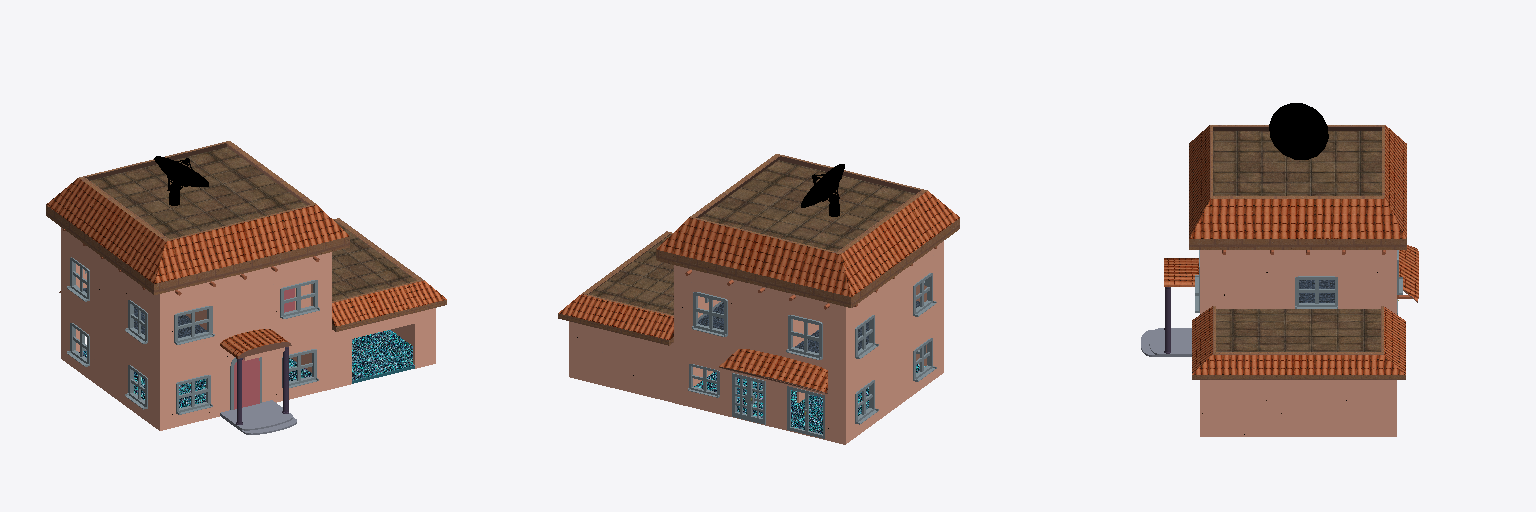
The picture shows the model from 3 angles: view 1: azimuth 30°, elevation 25°; view 2: azimuth 150°, elevation 25°; view 3: azimuth 270°, elevation 25°; orthographic projection.
Visible parts, largest first — view 1: polySurface145 polySurface304, polySurface480, polySurface145 polySurface361, polySurface145 polySurface300, polySurface145 polySurface416, polySurface145 polySurface413, polySurface145 polySurface358, polySurface145 polySurface313, polySurface145 polySurface343, polySurface145 polySurface377, polySurface145 polySurface305, polySurface145 polySurface344 (+12 smaller); view 2: polySurface491, polySurface480, polySurface145 polySurface361, polySurface145 polySurface400, polySurface145 polySurface416, polySurface353 polySurface145, polySurface145 polySurface383, polySurface145 polySurface358, polySurface145 polySurface433, polySurface145 polySurface414, polySurface402, polySurface412 (+11 smaller); view 3: polySurface145 polySurface370, polySurface145 polySurface345, polySurface452, polySurface145 polySurface361, polySurface145 polySurface358, polySurface145 polySurface340, polySurface145 polySurface372, polySurface145 polySurface400, polySurface145 polySurface300, polySurface145 polySurface383, polySurface145 polySurface413, polySurface145 polySurface377 (+5 smaller).
Boxes of the visible parts, x1=… form: polySurface145 polySurface304: x1=162, y1=252, x2=331, y2=430; polySurface480: x1=61, y1=227, x2=161, y2=430; polySurface145 polySurface361: x1=90, y1=147, x2=306, y2=238; polySurface145 polySurface300: x1=155, y1=204, x2=349, y2=294; polySurface145 polySurface416: x1=46, y1=178, x2=168, y2=294; polySurface145 polySurface413: x1=332, y1=280, x2=446, y2=331; polySurface145 polySurface358: x1=332, y1=221, x2=416, y2=300; polySurface145 polySurface313: x1=332, y1=309, x2=432, y2=388; polySurface145 polySurface343: x1=352, y1=330, x2=414, y2=383; polySurface145 polySurface377: x1=220, y1=329, x2=291, y2=360; polySurface145 polySurface305: x1=220, y1=400, x2=292, y2=430; polySurface145 polySurface344: x1=234, y1=358, x2=259, y2=409; polySurface491: x1=674, y1=265, x2=844, y2=444; polySurface480: x1=845, y1=241, x2=943, y2=444; polySurface145 polySurface361: x1=699, y1=160, x2=915, y2=251; polySurface145 polySurface400: x1=657, y1=217, x2=851, y2=307; polySurface145 polySurface416: x1=838, y1=190, x2=959, y2=307; polySurface353 polySurface145: x1=571, y1=322, x2=675, y2=402; polySurface145 polySurface383: x1=558, y1=294, x2=673, y2=345; polySurface145 polySurface358: x1=589, y1=235, x2=673, y2=314; polySurface145 polySurface433: x1=719, y1=349, x2=827, y2=393; polySurface145 polySurface414: x1=694, y1=364, x2=925, y2=433; polySurface402: x1=732, y1=373, x2=765, y2=424; polySurface412: x1=786, y1=315, x2=822, y2=359; polySurface145 polySurface370: x1=1200, y1=380, x2=1396, y2=436; polySurface145 polySurface345: x1=1190, y1=196, x2=1405, y2=249; polySurface452: x1=1200, y1=250, x2=1394, y2=313; polySurface145 polySurface361: x1=1213, y1=131, x2=1381, y2=195; polySurface145 polySurface358: x1=1216, y1=309, x2=1380, y2=351; polySurface145 polySurface340: x1=1192, y1=352, x2=1404, y2=379; polySurface145 polySurface372: x1=1269, y1=103, x2=1328, y2=159; polySurface145 polySurface400: x1=1382, y1=125, x2=1406, y2=249; polySurface145 polySurface300: x1=1189, y1=125, x2=1212, y2=249; polySurface145 polySurface383: x1=1381, y1=306, x2=1405, y2=379; polySurface145 polySurface413: x1=1192, y1=306, x2=1215, y2=373; polySurface145 polySurface377: x1=1164, y1=258, x2=1198, y2=286.
Size of the model in its own units: 42.03 by 30.83 by 34.49.
Materials: 17 (15 with a texture image).